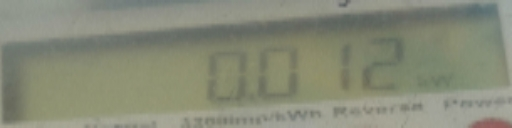0: (206, 50, 247, 104), (260, 44, 301, 98)
1: (317, 43, 358, 97)
2: (362, 37, 403, 91)
d: (247, 89, 258, 109)
